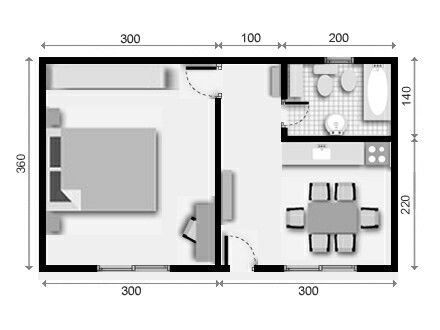door: (183, 66, 222, 97), (274, 99, 317, 125)
room: (34, 52, 221, 276), (215, 57, 402, 273)
wall: (36, 58, 50, 275), (387, 60, 401, 271), (37, 55, 325, 63), (210, 96, 223, 267), (284, 131, 391, 147), (37, 262, 100, 275), (168, 262, 232, 274), (359, 257, 397, 277), (354, 54, 400, 68), (281, 63, 293, 101), (252, 261, 283, 275)
window: (99, 258, 170, 278), (283, 261, 358, 274), (326, 51, 353, 68)
